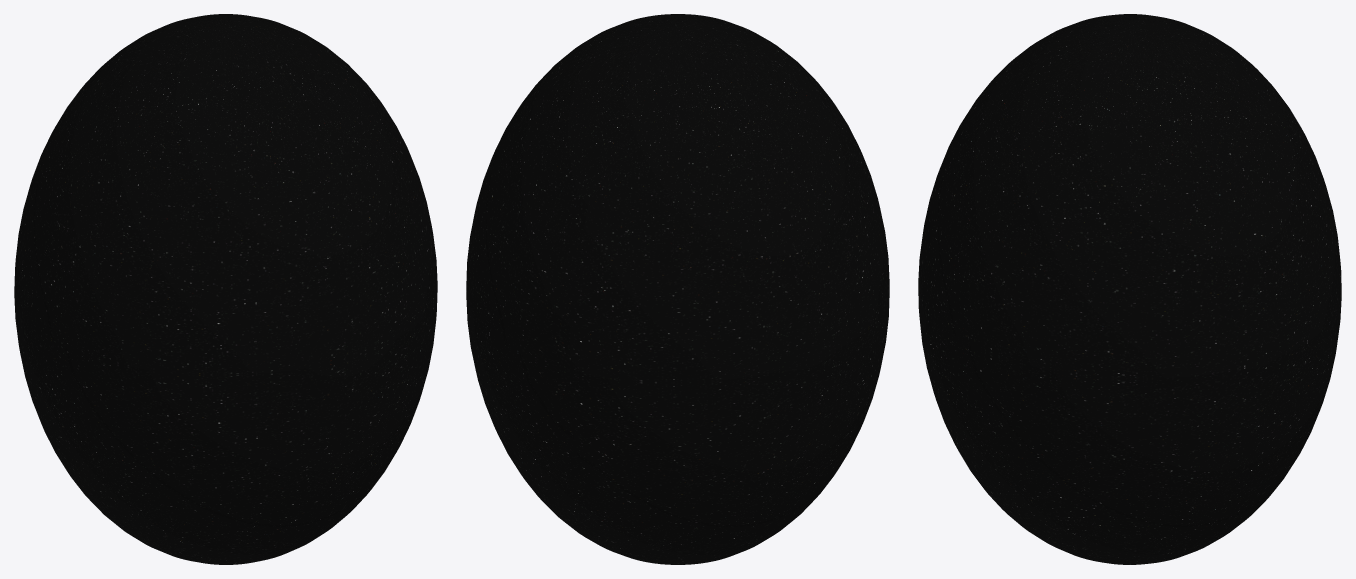
Rendered from space_its_just..._space.glb.
The picture shows the model from 3 angles, left to right: view 1: azimuth 30°, elevation 25°; view 2: azimuth 150°, elevation 25°; view 3: azimuth 270°, elevation 25°; orthographic projection.
Parts seen in each view (by area): view 1: mat_19-material; view 2: mat_19-material; view 3: mat_19-material.
Part boxes in pixels (left/top/right/bottom): mat_19-material: left=14, top=14, right=437, bottom=564; mat_19-material: left=466, top=14, right=889, bottom=564; mat_19-material: left=918, top=14, right=1341, bottom=564.
Bounding box in the file's own units: 874970 × 1186282 × 874835.
1 material, 1 textured.
